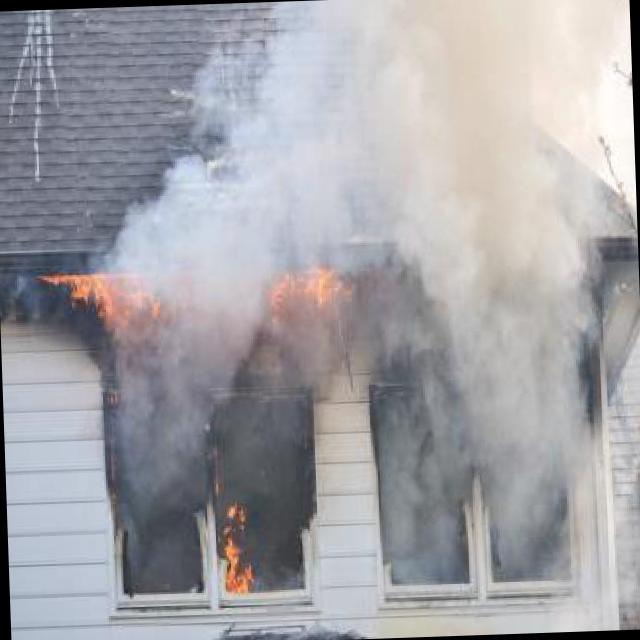Fire: (50, 250, 168, 334), (250, 256, 344, 324), (212, 492, 254, 602)
Smoke: (323, 0, 640, 601), (124, 0, 334, 259), (109, 323, 338, 513)
